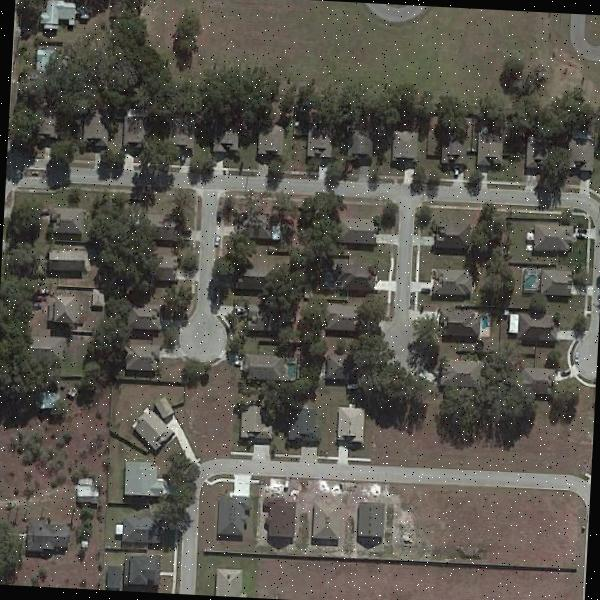Buildings: (98, 556, 162, 593), (44, 290, 92, 330), (530, 216, 574, 256), (426, 258, 474, 294), (28, 518, 72, 554), (125, 457, 166, 494), (136, 412, 175, 450), (316, 492, 342, 546), (442, 128, 475, 168), (355, 499, 389, 537), (124, 342, 162, 375), (50, 246, 84, 280), (266, 500, 298, 536), (215, 501, 242, 543), (510, 318, 558, 341), (385, 126, 419, 158), (40, 0, 80, 27), (438, 314, 479, 340), (252, 126, 284, 159), (338, 213, 373, 240), (123, 513, 154, 540), (84, 120, 108, 152), (132, 312, 170, 331), (124, 117, 144, 151), (172, 123, 192, 156), (352, 128, 370, 160), (545, 274, 571, 296), (54, 213, 82, 233), (334, 303, 354, 331), (326, 358, 349, 378), (305, 141, 323, 158), (222, 130, 234, 148)
